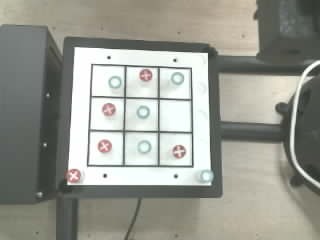blue circle: (138, 140, 151, 153), (136, 105, 149, 118), (108, 76, 121, 88), (200, 170, 213, 182), (171, 72, 183, 84)
board: (66, 46, 214, 186)
cells: (89, 132, 122, 164), (160, 133, 192, 165), (125, 133, 157, 165), (125, 99, 157, 130), (91, 98, 123, 129), (92, 65, 124, 96), (159, 100, 190, 131), (126, 67, 157, 97), (160, 68, 190, 98)
grid: (87, 64, 193, 167)
red cross: (66, 169, 80, 182), (172, 145, 185, 158), (98, 139, 111, 152), (102, 103, 115, 115), (139, 69, 152, 81)
